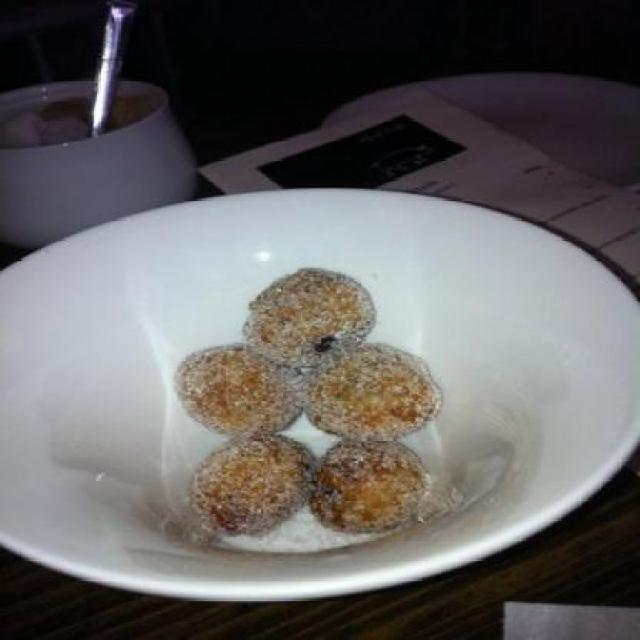Donuts: (174, 262, 440, 535)
